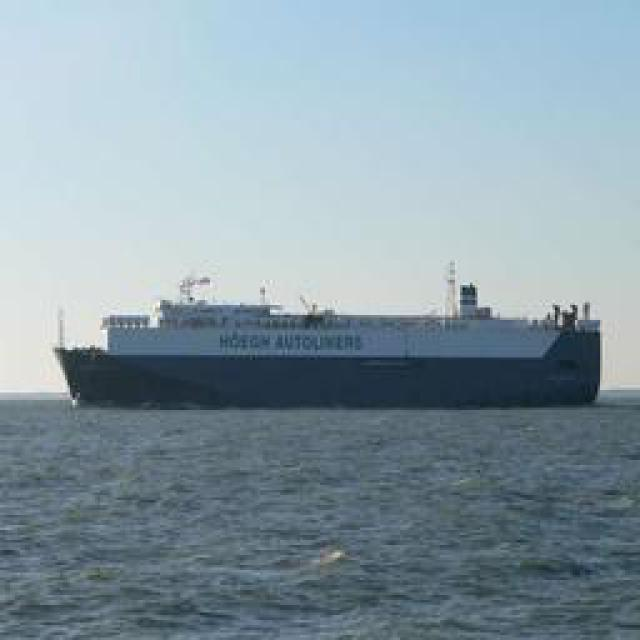Ship: (60, 285, 603, 408)
